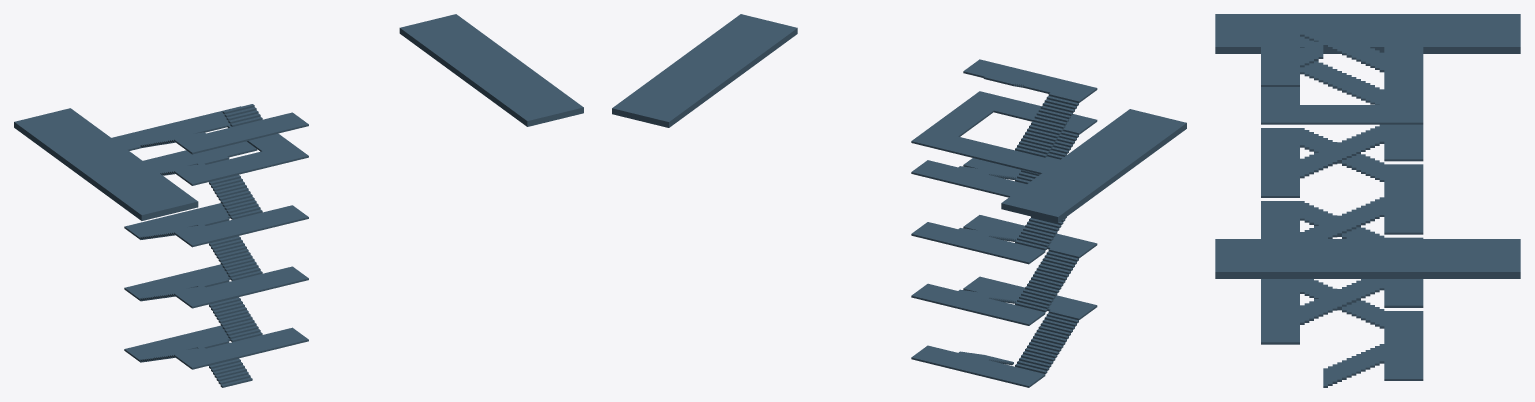
File: v02-01-03-deck.glb
3 renders of one model, left to right at view 1: azimuth 30°, elevation 25°; view 2: azimuth 150°, elevation 25°; view 3: azimuth 270°, elevation 25°, orthographic. The views are drawn at different scales.
Parts seen in each view (by area): view 1: v02-01-03-deck; view 2: v02-01-03-deck; view 3: v02-01-03-deck.
Boxes of the visible parts, bbox=[...] form: v02-01-03-deck: bbox=[14, 14, 583, 387]; v02-01-03-deck: bbox=[612, 14, 1186, 387]; v02-01-03-deck: bbox=[1215, 14, 1520, 387].
Size of the model in its own units: 47 by 28.12 by 23.5.
